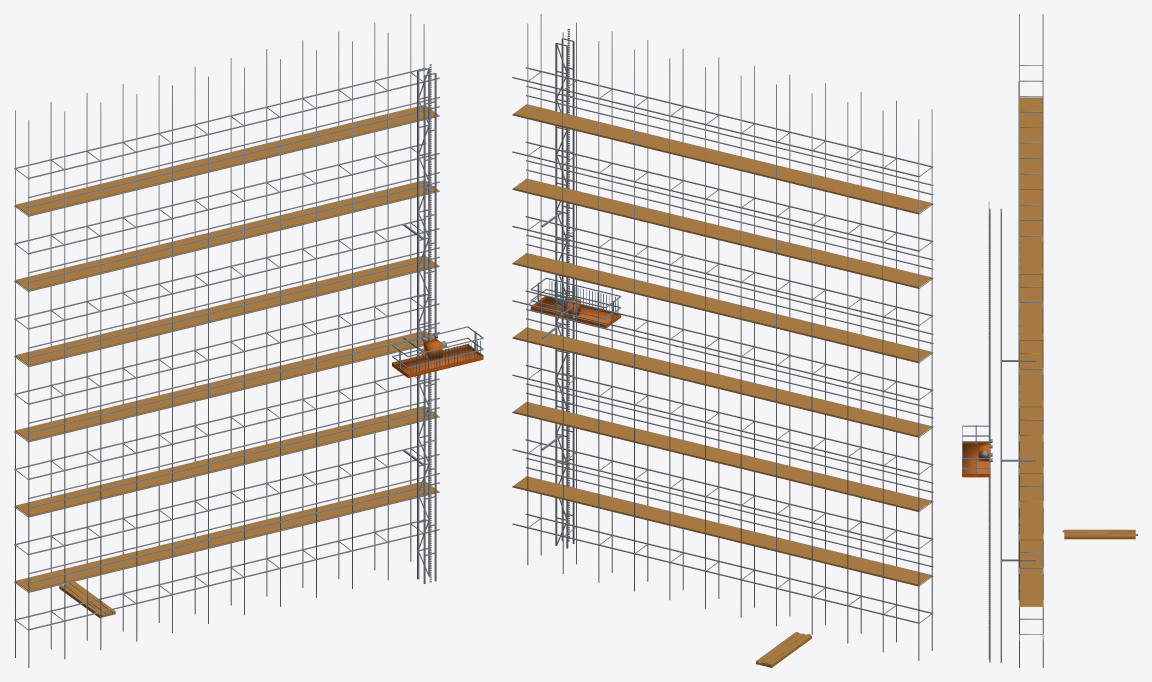
The model's file is login-site-scaffold.glb.
The picture shows the model from 3 angles, left to right: view 1: azimuth 30°, elevation 25°; view 2: azimuth 150°, elevation 25°; view 3: azimuth 270°, elevation 25°; orthographic projection. The views are drawn at different scales.
Visible parts, largest first — view 1: scaffold-galv, scaffold-ply; view 2: scaffold-galv, scaffold-ply; view 3: scaffold-ply, scaffold-galv.
Boxes of the visible parts, x1,y1,x2,y2 form: scaffold-galv: (14, 14, 483, 667); scaffold-ply: (15, 105, 438, 617); scaffold-galv: (512, 14, 933, 660); scaffold-ply: (513, 104, 931, 667); scaffold-ply: (1019, 97, 1137, 606); scaffold-galv: (962, 14, 1043, 667).
Size of the model in its own units: 23.58 by 29.1 by 9.59.
